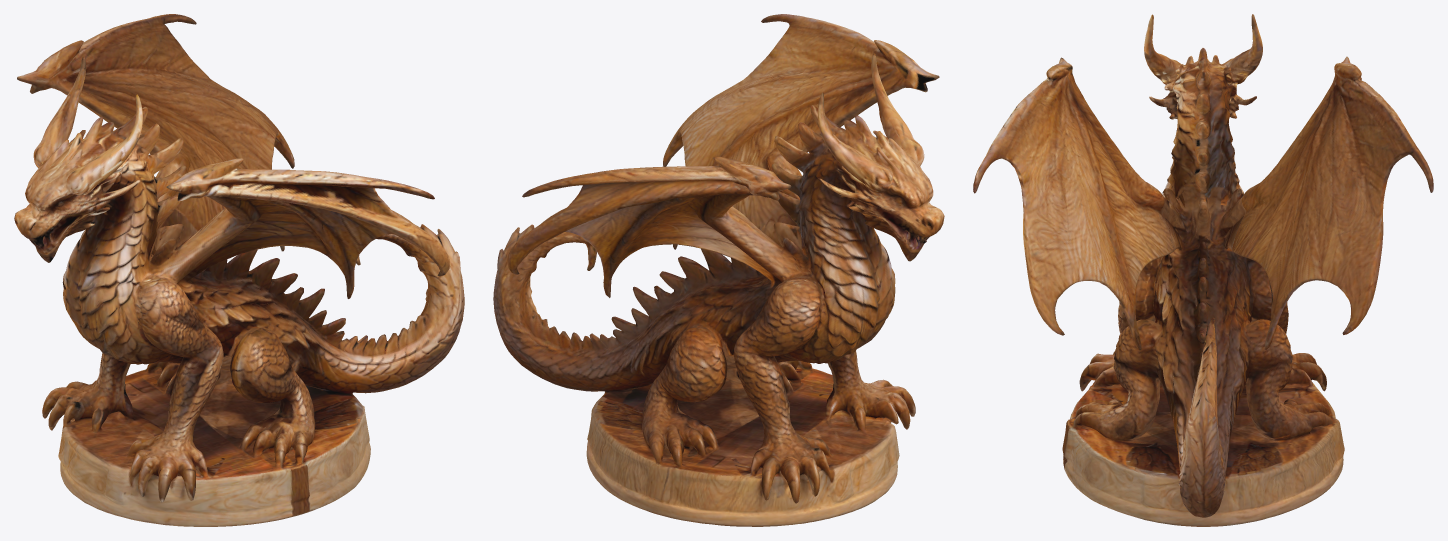
Rendered from wooden_dragon.glb.
3 views of the same model, side by side, from view 1: azimuth 30°, elevation 25°; view 2: azimuth 150°, elevation 25°; view 3: azimuth 270°, elevation 25° (orthographic). The views are drawn at different scales.
Parts seen in each view (by area): view 1: tmps85caskp.ply_Material.001_0; view 2: tmps85caskp.ply_Material.001_0; view 3: tmps85caskp.ply_Material.001_0.
Part boxes in pixels (x1,y1,x2,y2): tmps85caskp.ply_Material.001_0: [14, 14, 464, 526]; tmps85caskp.ply_Material.001_0: [493, 14, 944, 526]; tmps85caskp.ply_Material.001_0: [973, 14, 1433, 526].
Bounding box in the file's own units: 2 × 1.8 × 1.88.
1 material, 1 textured.
